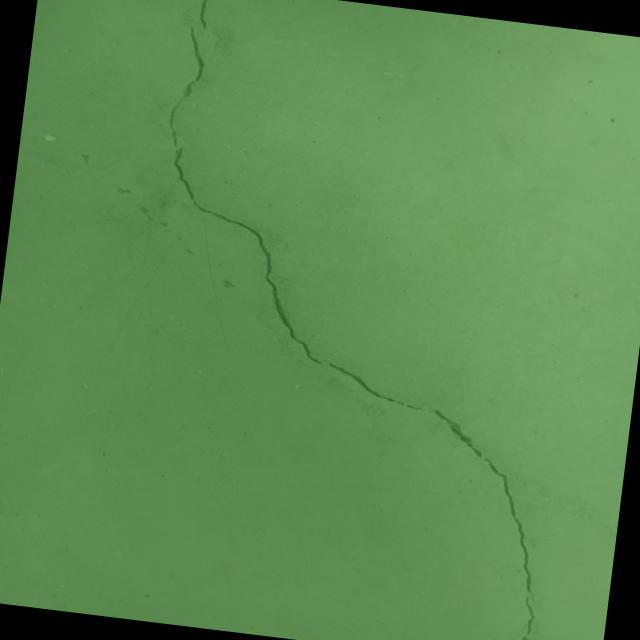crack: (294, 362, 573, 640), (140, 24, 362, 365), (197, 0, 212, 29)
